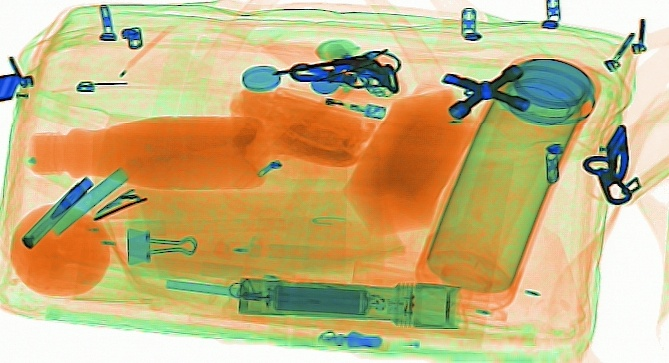lighter: (274, 82, 388, 120)
